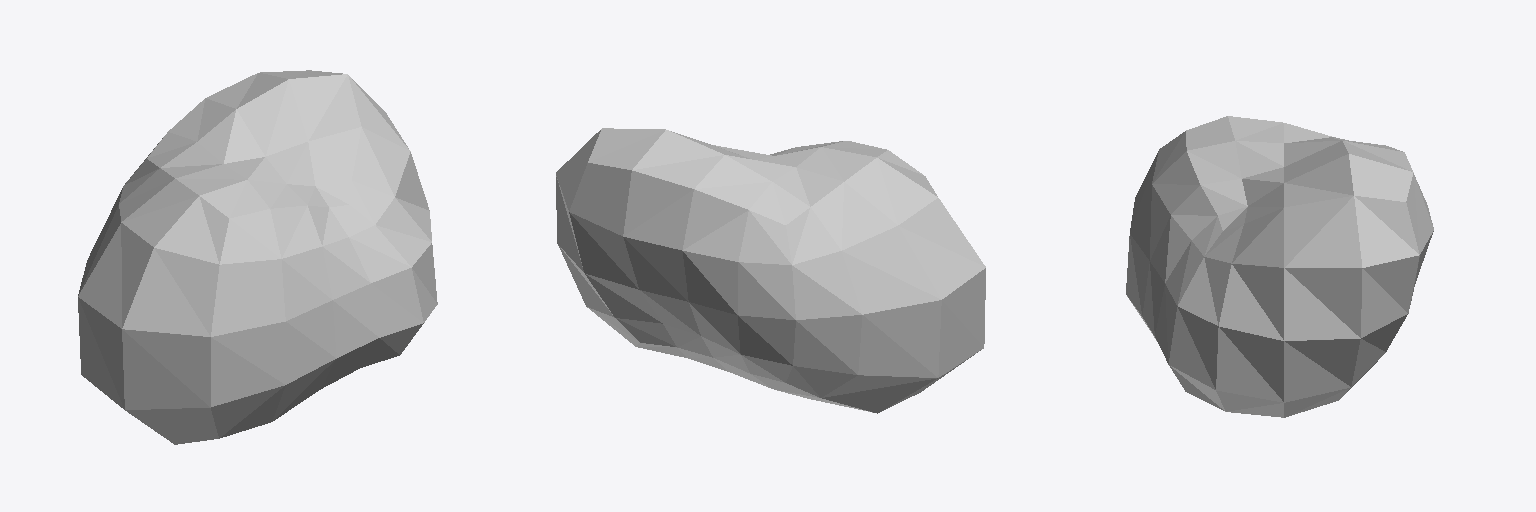
Rendered from Rock3.obj.
3 views of the same model, side by side, from view 1: azimuth 30°, elevation 25°; view 2: azimuth 150°, elevation 25°; view 3: azimuth 270°, elevation 25° (orthographic).
Visible parts, largest first — view 1: Cube; view 2: Cube; view 3: Cube.
Part boxes in pixels (x1,y1,x2,y2): Cube: (78, 70, 437, 444); Cube: (556, 128, 985, 413); Cube: (1126, 116, 1433, 417).
Size of the model in its own units: 2.05 by 1.51 by 1.56.